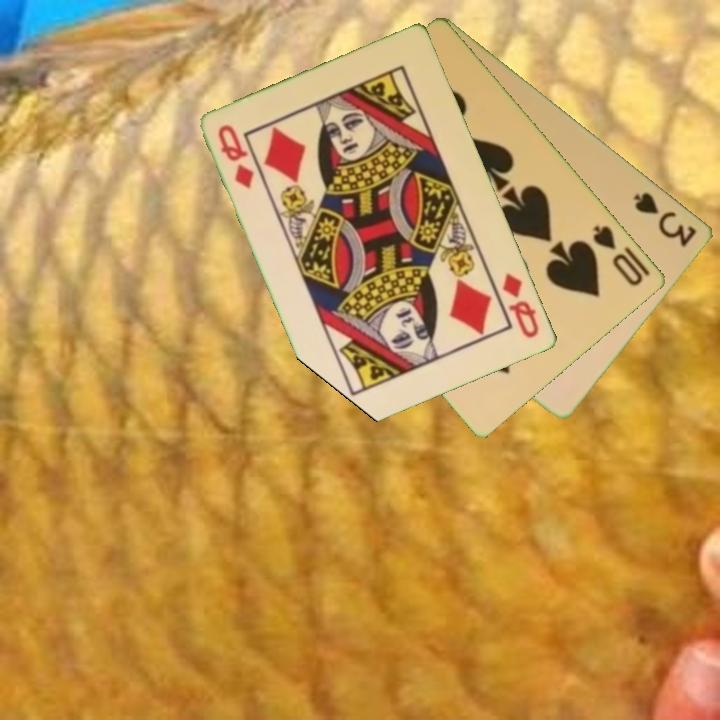10s: (589, 221, 647, 289)
3s: (630, 188, 701, 250)
Qd: (499, 269, 543, 342), (214, 121, 258, 193)
